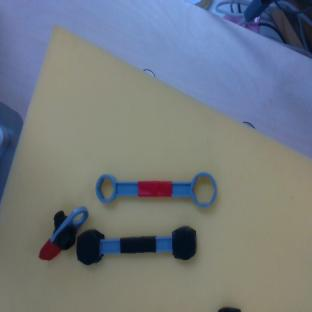part_1_good: (34, 196, 91, 269)
part_3_bad: (76, 225, 197, 265)
part_3_good: (96, 170, 217, 208)
